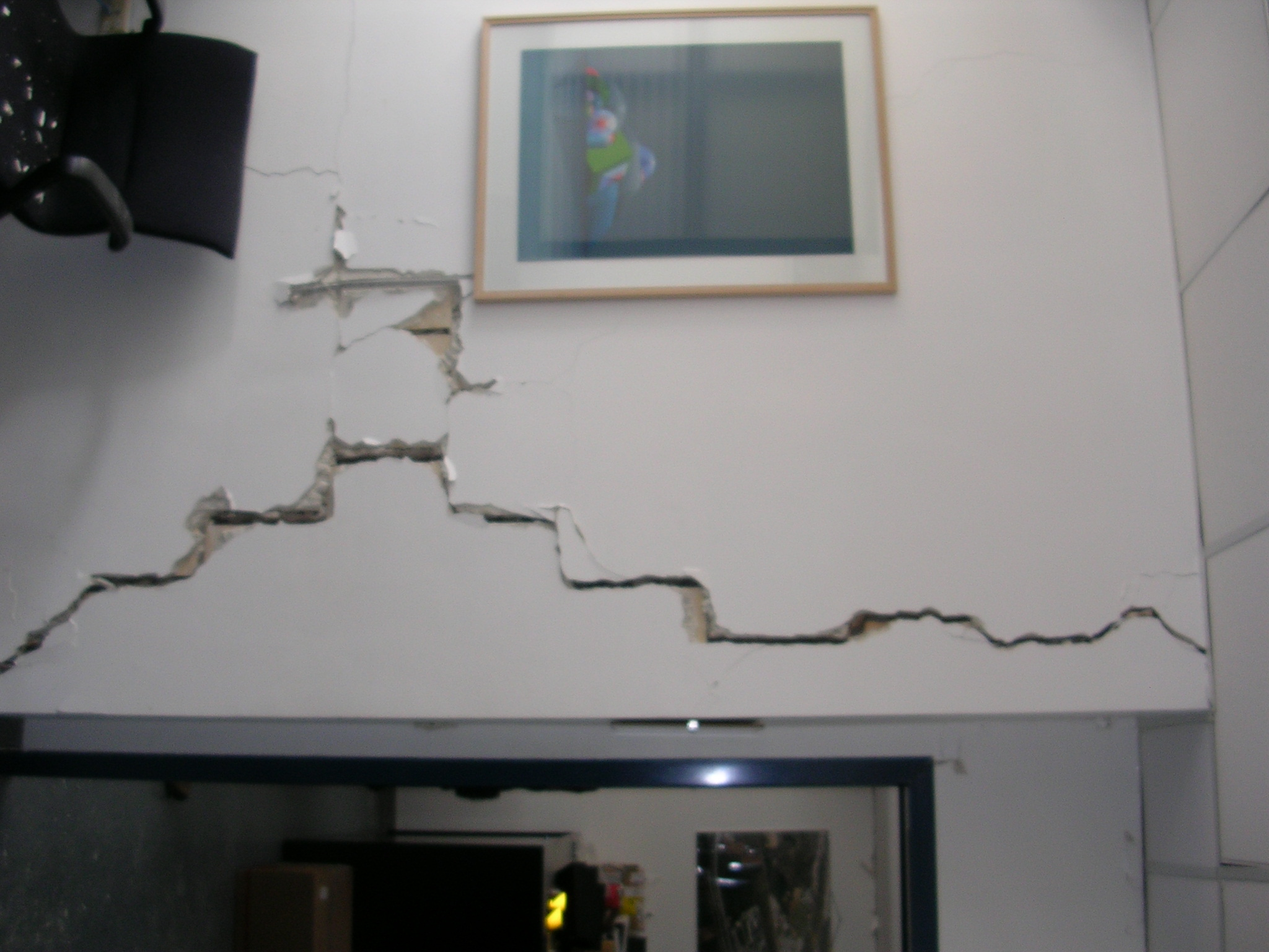Crack: (0, 5, 1206, 695)
